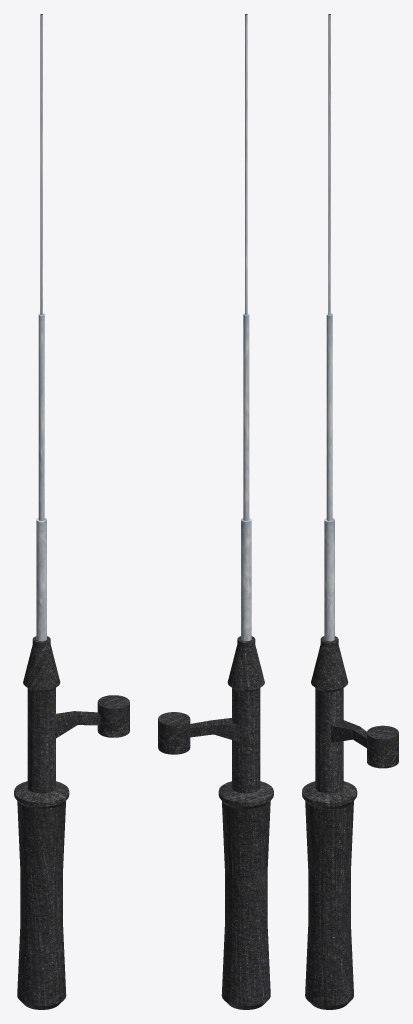
File: Fishing_Rod (2).fbx
3 renders of one model, left to right at view 1: azimuth 30°, elevation 25°; view 2: azimuth 210°, elevation 25°; view 3: azimuth 330°, elevation 25°, orthographic.
Visible parts, largest first — view 1: Cylinder; view 2: Cylinder; view 3: Cylinder.
Part boxes in pixels (bbox=[...]): Cylinder: bbox=[14, 14, 129, 1009]; Cylinder: bbox=[158, 14, 273, 1009]; Cylinder: bbox=[302, 14, 398, 1009].
Bounding box in the file's own units: 132 × 1239 × 71.02.
